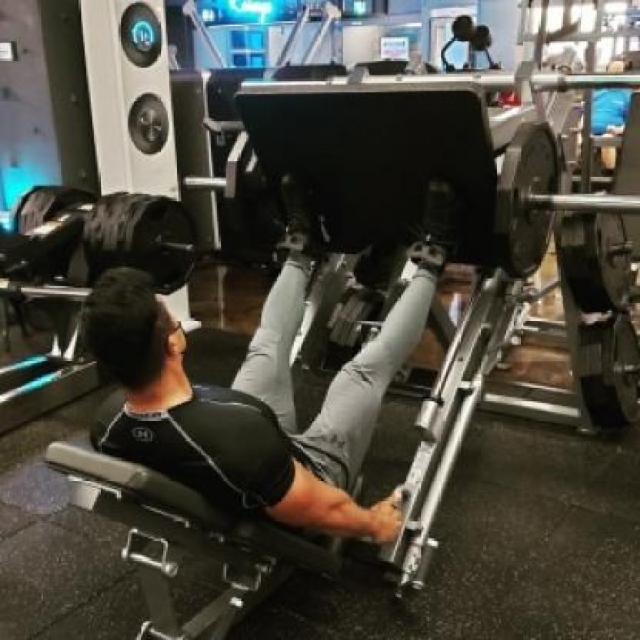leg press: (26, 49, 577, 640)
